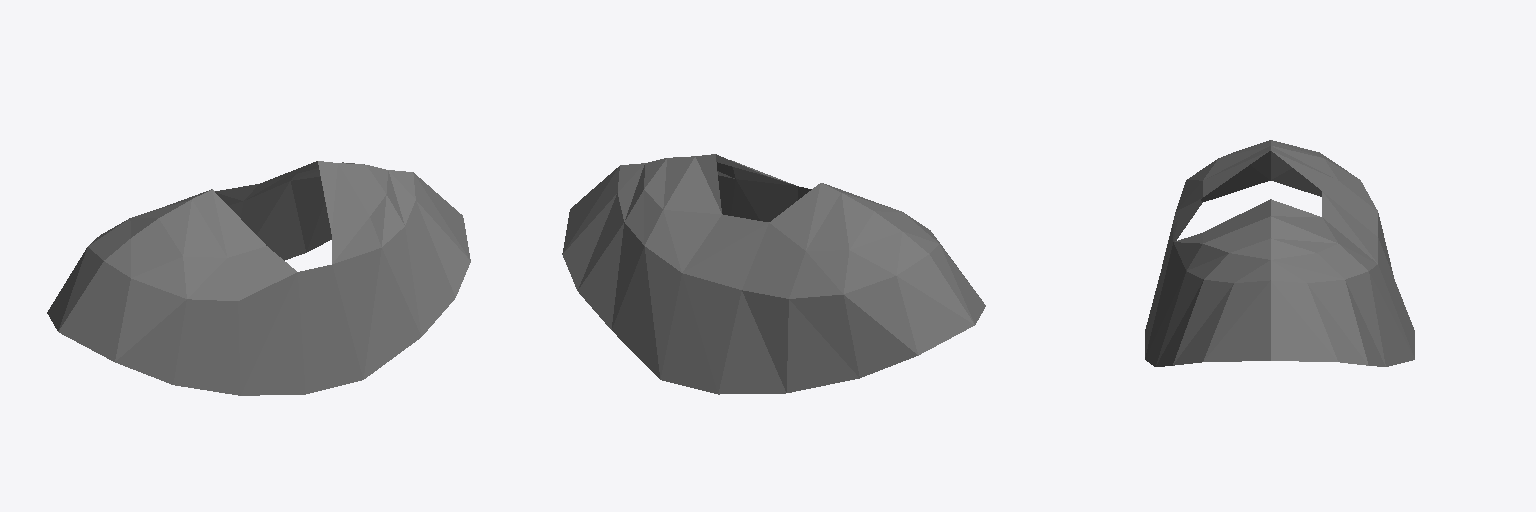
The model's file is clothe2.obj.
The picture shows the model from 3 angles: view 1: azimuth 30°, elevation 25°; view 2: azimuth 150°, elevation 25°; view 3: azimuth 270°, elevation 25°; orthographic projection.
Visible parts, largest first — view 1: Object002; view 2: Object002; view 3: Object002.
Part boxes in pixels (x1,y1,x2,y2): Object002: (47,161,470,395); Object002: (562,154,985,394); Object002: (1145,140,1414,366).
Size of the model in its own units: 41.75 by 16.67 by 24.14.